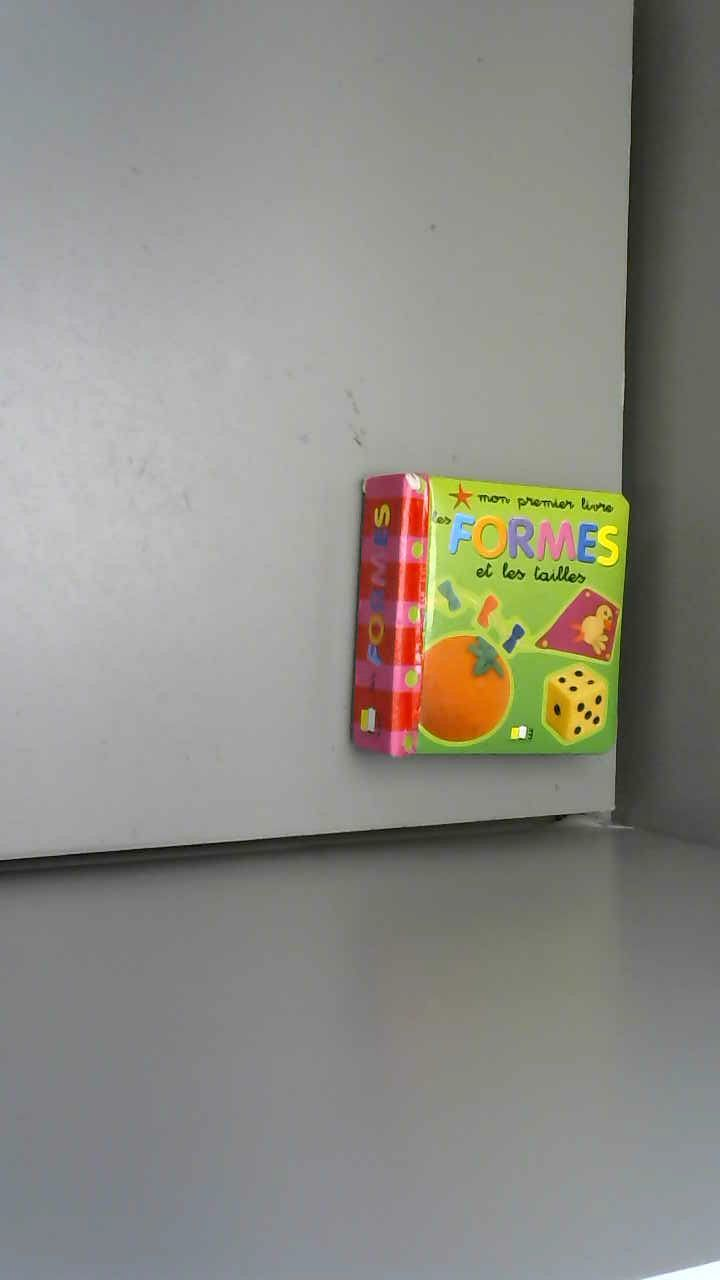book: (331, 453, 647, 781)
